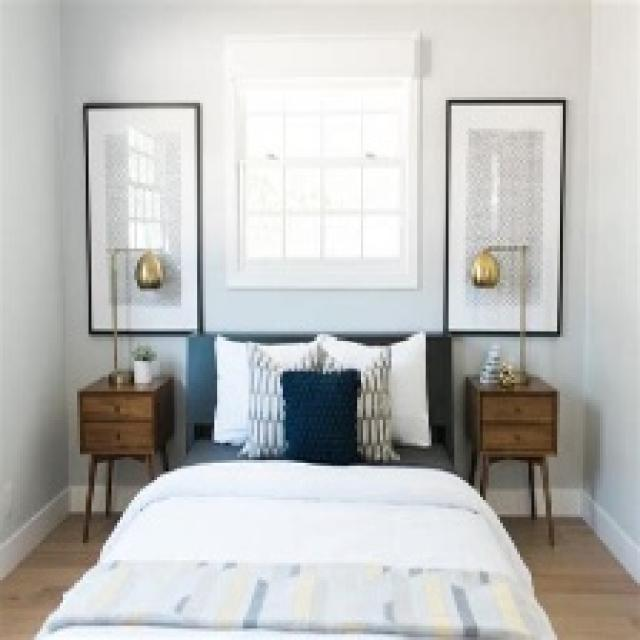Bed: (23, 329, 560, 637)
